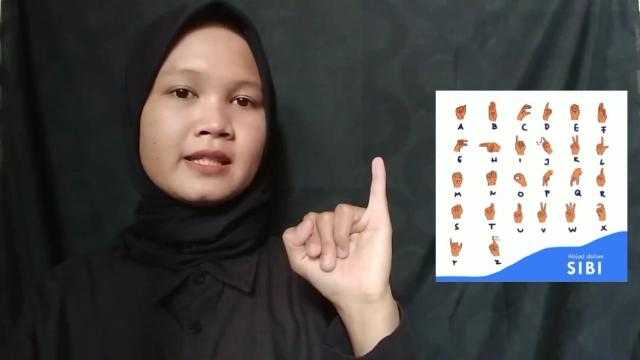I: (283, 156, 393, 302)
